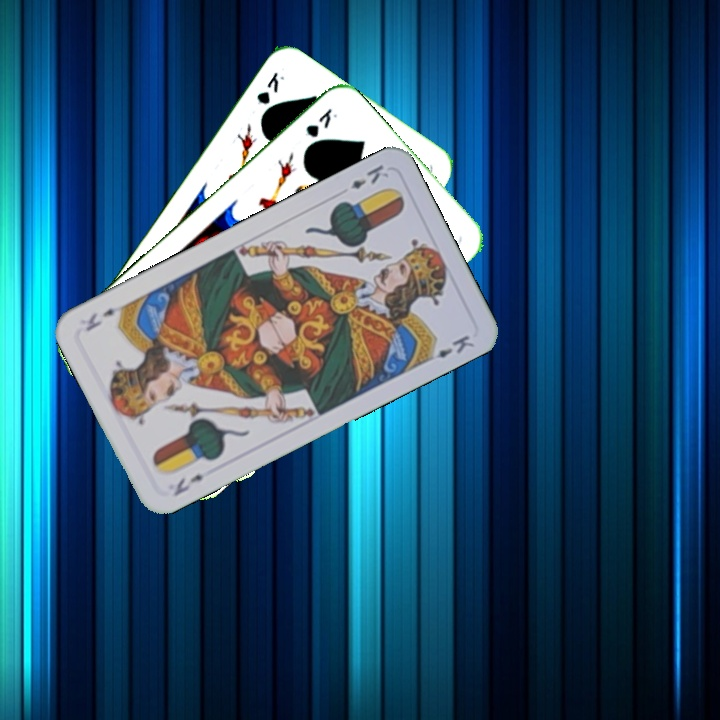EK: (347, 160, 392, 192), (169, 470, 207, 499)
GK: (301, 104, 340, 141), (252, 68, 287, 108)
